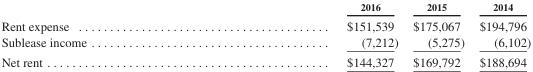table: (0, 0, 530, 68)
table column: (0, 0, 216, 68), (216, 0, 404, 68), (404, 0, 471, 68), (471, 0, 530, 68)
table column header: (0, 0, 530, 15)
table row: (0, 15, 530, 33), (0, 33, 530, 51), (0, 51, 530, 68), (0, 0, 530, 15)
